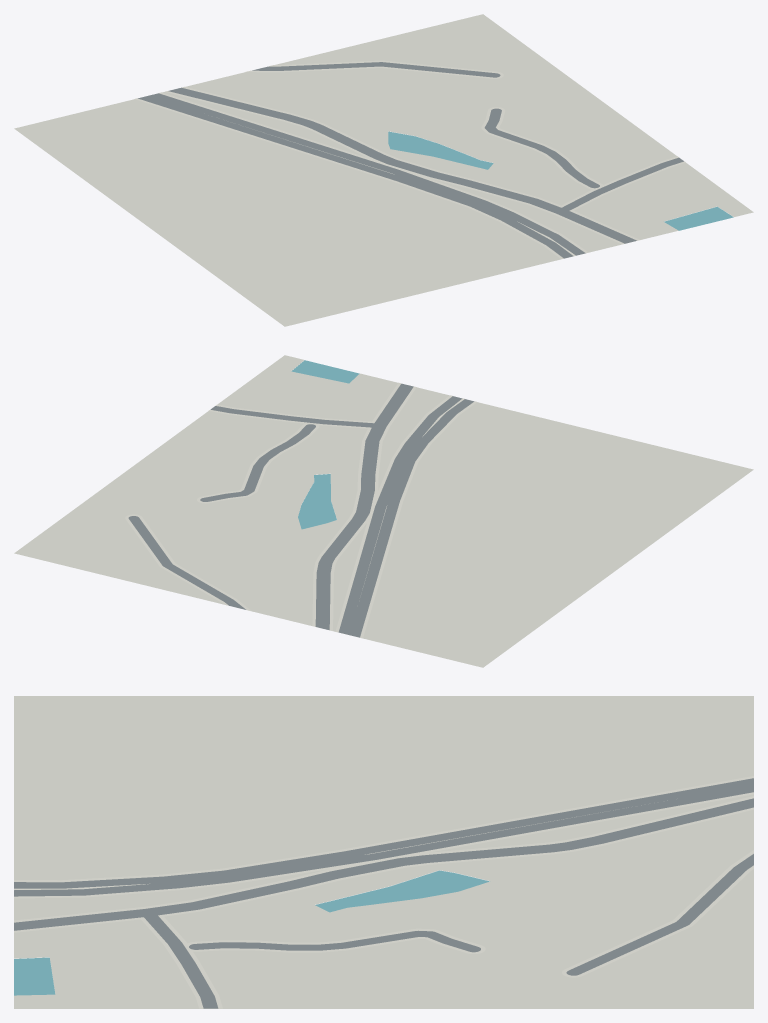
3 views of the same model, one above another, from view 1: azimuth 30°, elevation 25°; view 2: azimuth 150°, elevation 25°; view 3: azimuth 270°, elevation 25° (orthographic). The views are drawn at different scales.
Parts seen in each view (by area): view 1: city; view 2: city; view 3: city.
Part boxes in pixels (x1=…): city: x1=14, y1=14, x2=753, y2=326; city: x1=14, y1=355, x2=753, y2=667; city: x1=14, y1=696, x2=753, y2=1008.
Size of the model in its own units: 500 by 0.4 by 500.
